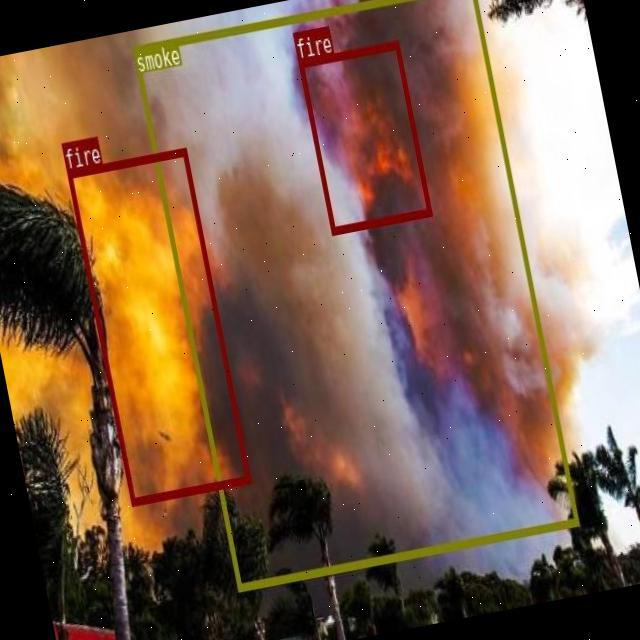fire: (66, 146, 250, 504), (298, 41, 431, 233)
smoke: (132, 0, 578, 589)
